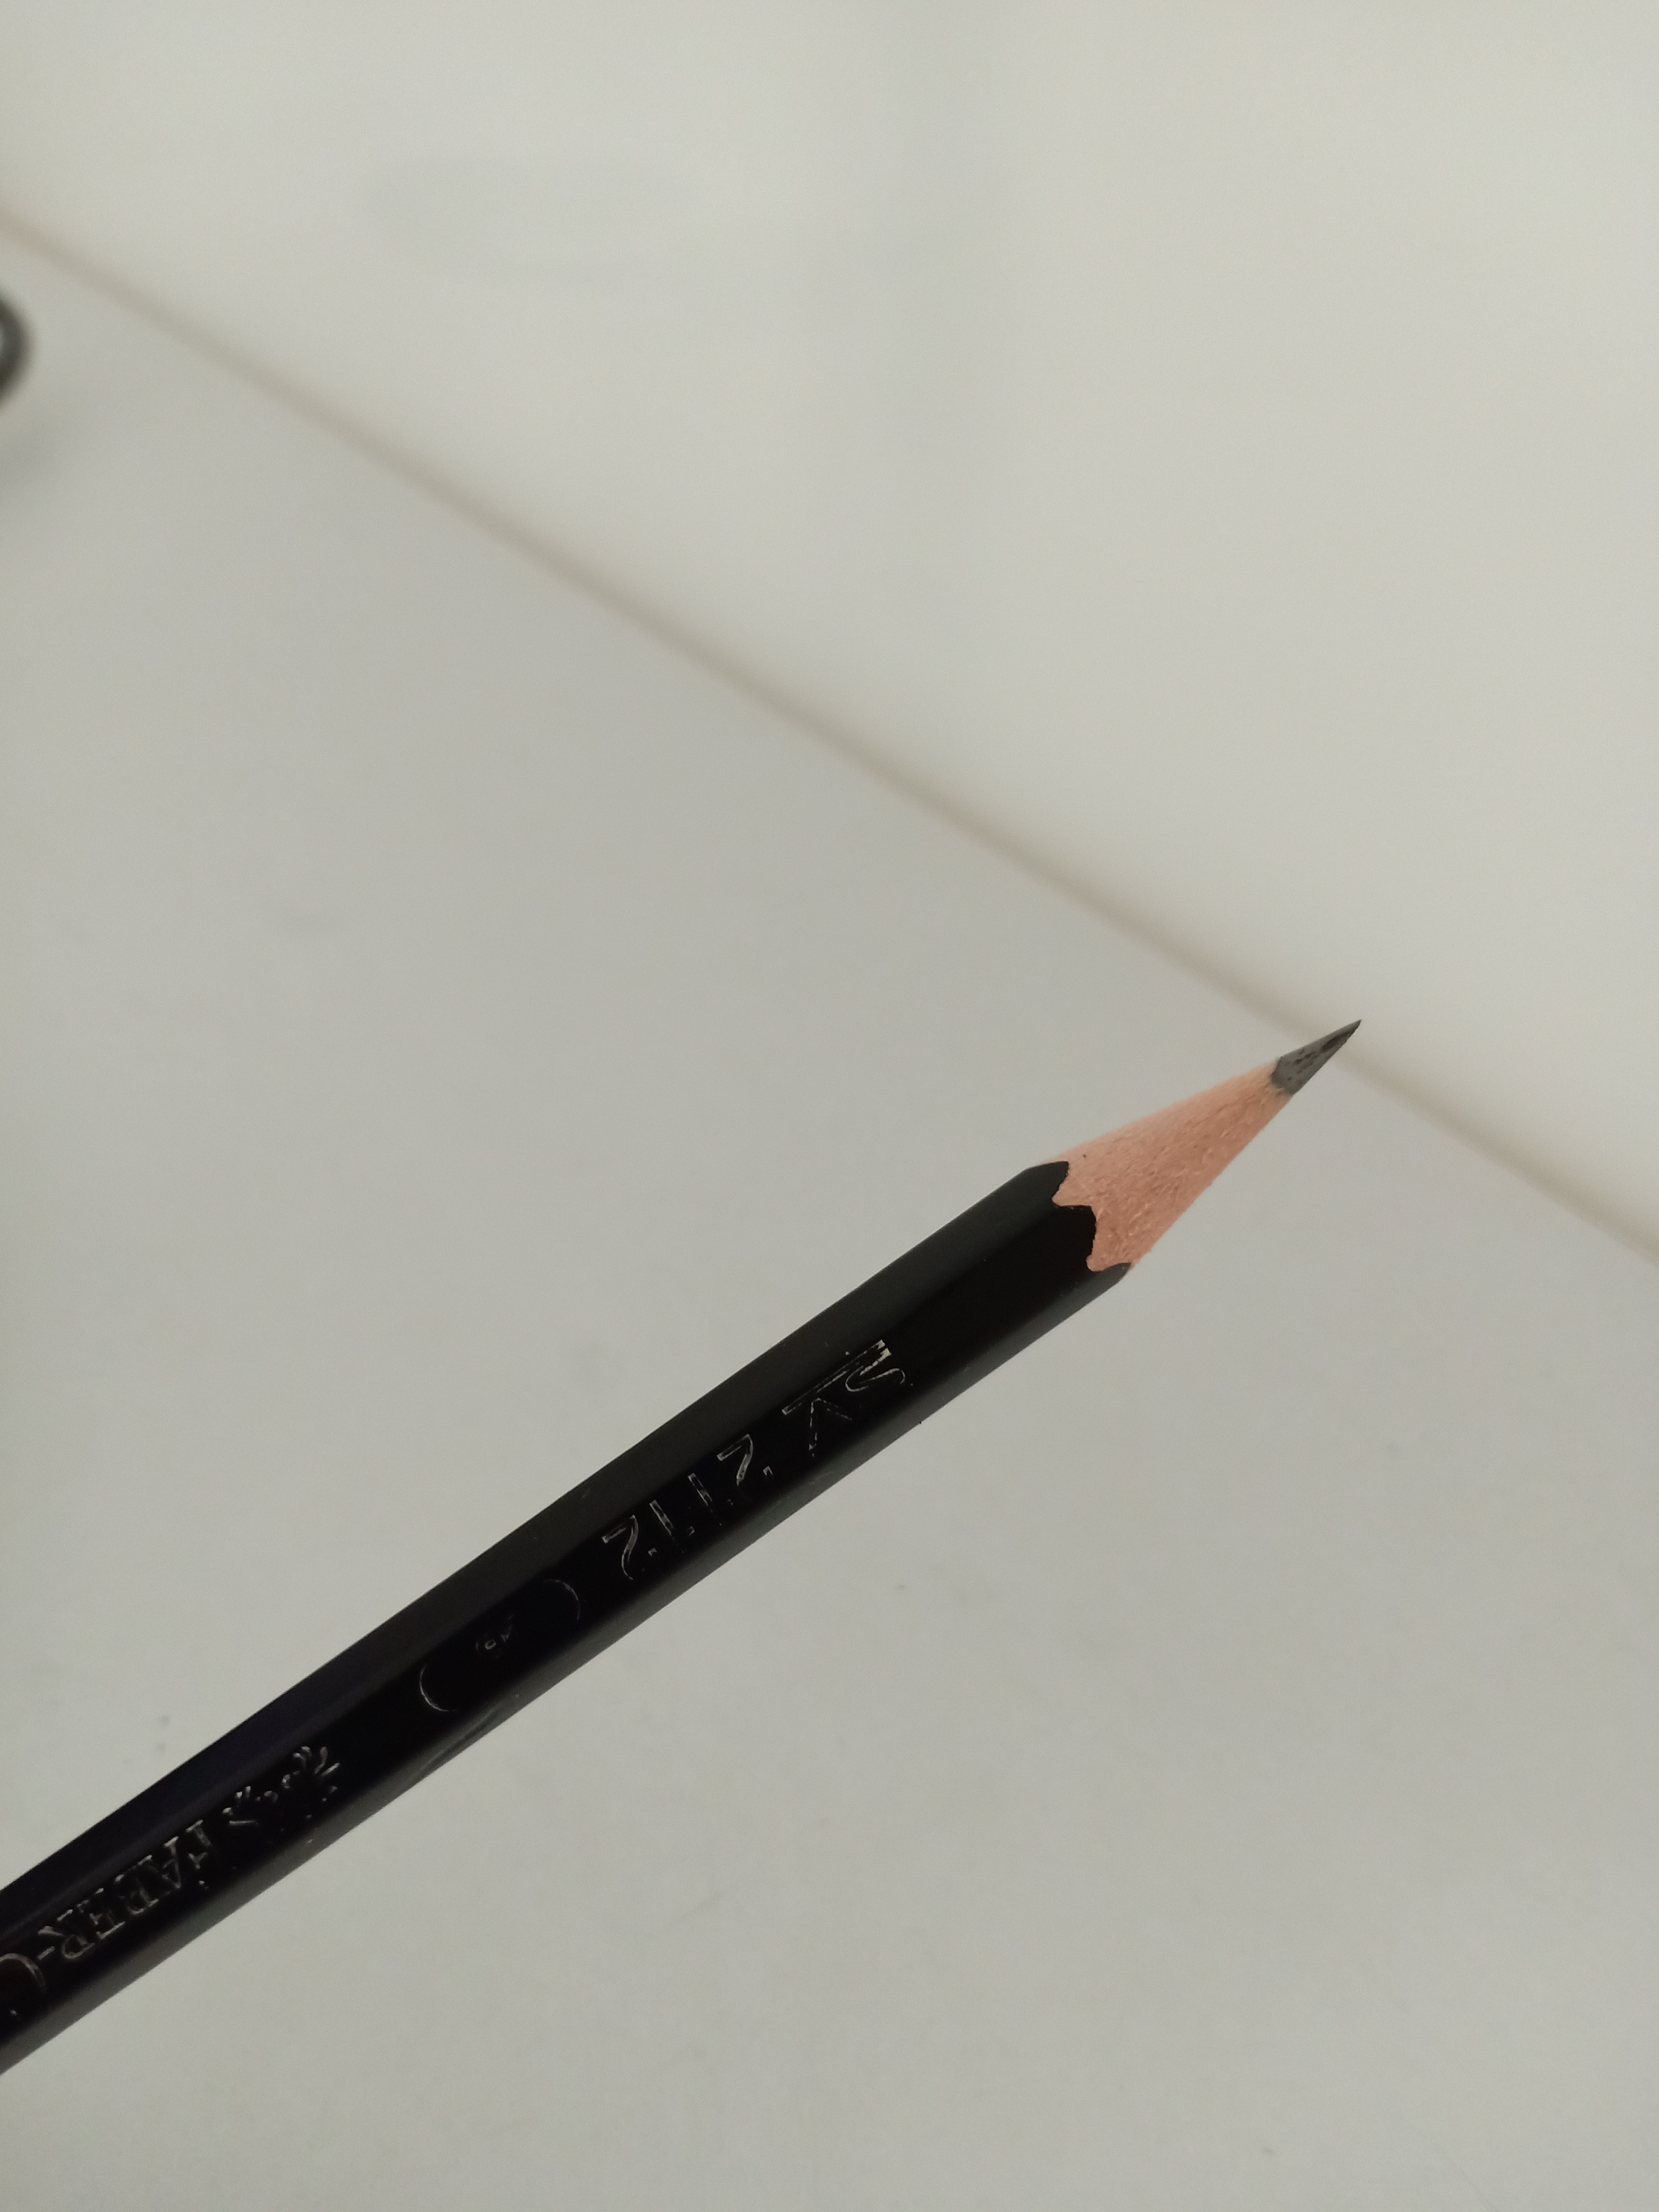pen_tip: (833, 911, 1490, 1400)
